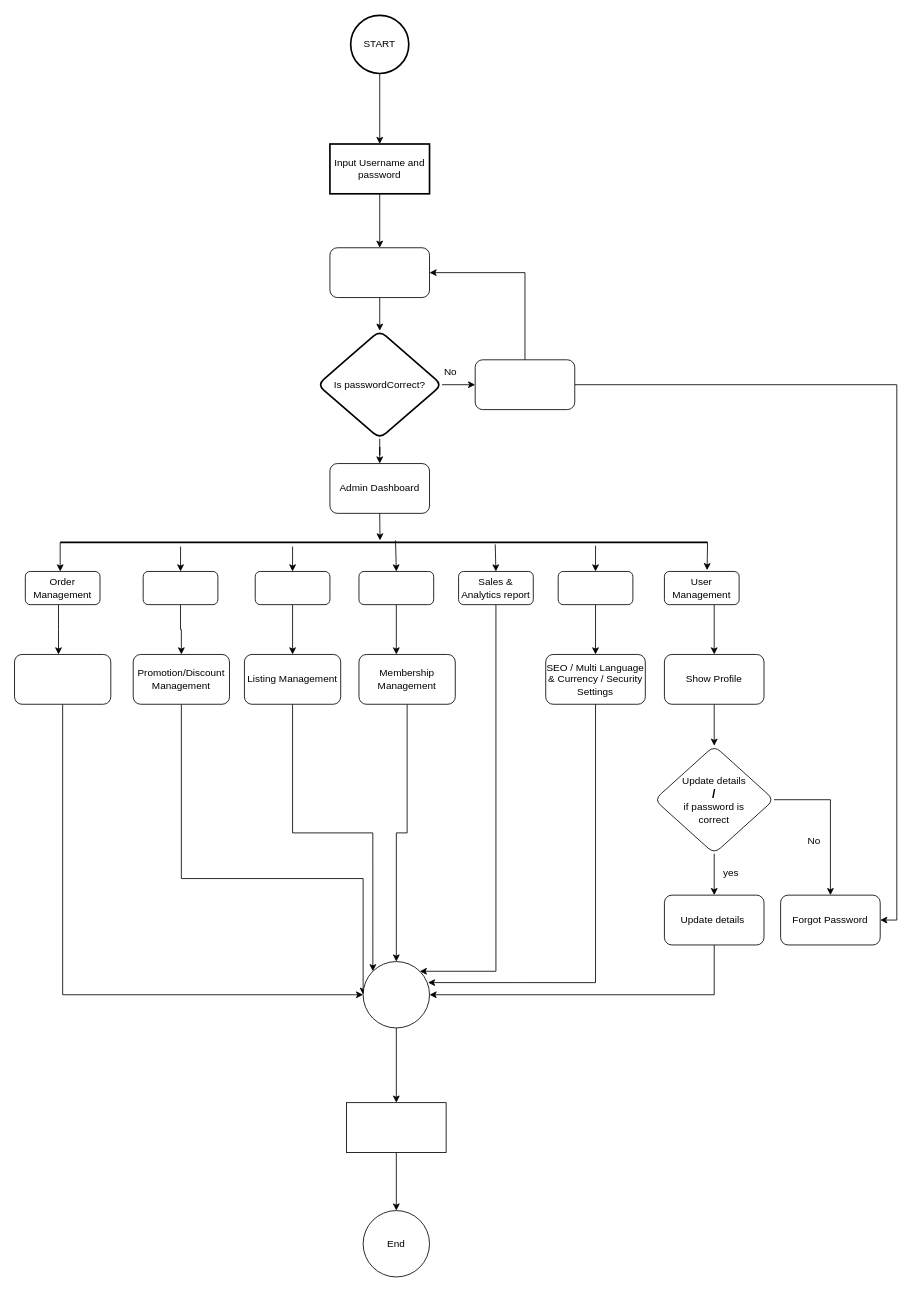
This 918x1291 diagram has some shape labels left out. The shapes that lost their labels are listed below. From the top down, each one's centre as x and y in pixels, then its label:
At point 379,272: "Login".
At point 524,384: "Reset Password".
At point 180,588: "Product Management".
At point 292,588: "Inventory Management".
At point 396,588: "Customer Management".
At point 595,588: "Site Configuration".
At point 62,679: "Return Order/ Payment".
At point 396,1127: "Logout".
